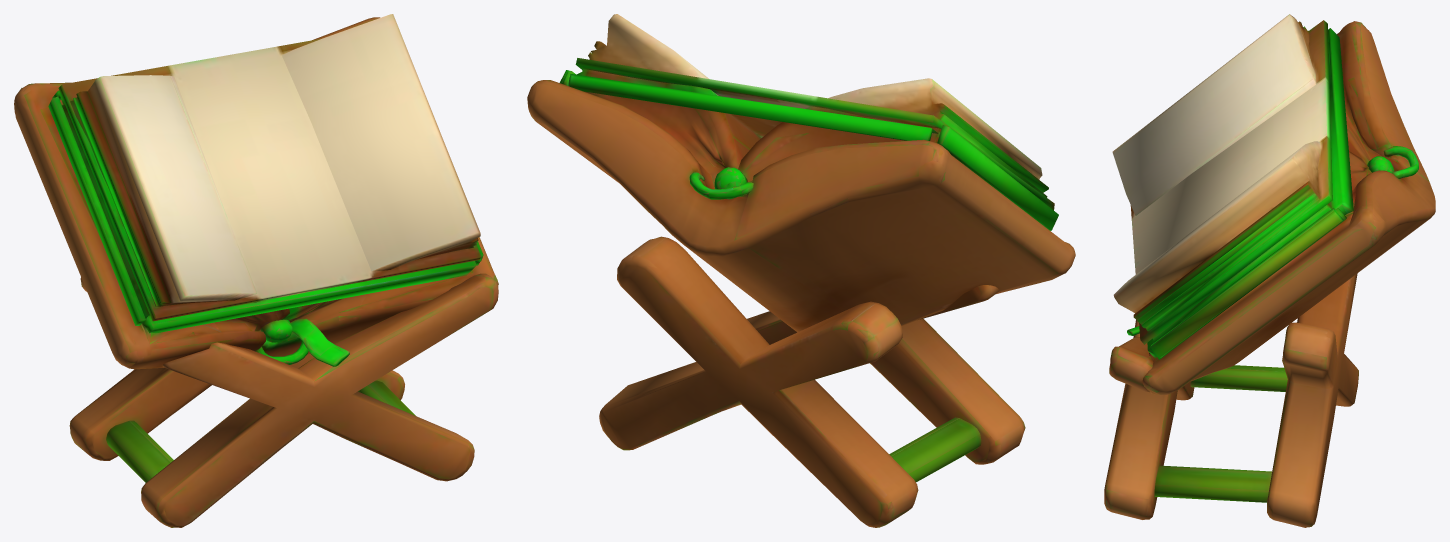
The model's file is rehal.231e78ea.glb.
The picture shows the model from 3 angles, left to right: view 1: azimuth 30°, elevation 25°; view 2: azimuth 150°, elevation 25°; view 3: azimuth 270°, elevation 25°; orthographic projection. The views are drawn at different scales.
Visible parts, largest first — view 1: tripo_node_c239ba2c-a788-454f-821c-4ef17225604a; view 2: tripo_node_c239ba2c-a788-454f-821c-4ef17225604a; view 3: tripo_node_c239ba2c-a788-454f-821c-4ef17225604a.
Boxes of the visible parts, x1,y1,x2,y2 form: tripo_node_c239ba2c-a788-454f-821c-4ef17225604a: [14, 14, 498, 527]; tripo_node_c239ba2c-a788-454f-821c-4ef17225604a: [527, 14, 1075, 527]; tripo_node_c239ba2c-a788-454f-821c-4ef17225604a: [1104, 14, 1435, 527].
Size of the model in its own units: 0.998 by 0.9902 by 0.7755.
Materials: 1 (1 with a texture image).
